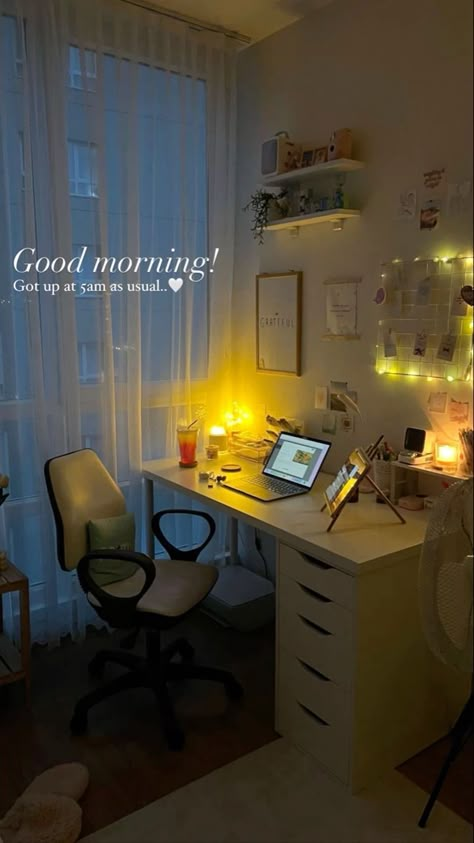not a gesture sign: (68, 437, 242, 708)
